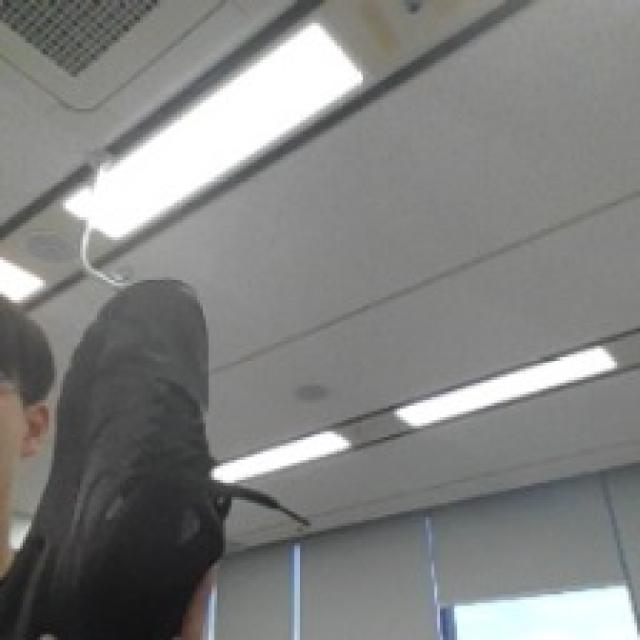shoes: (35, 218, 323, 640)
